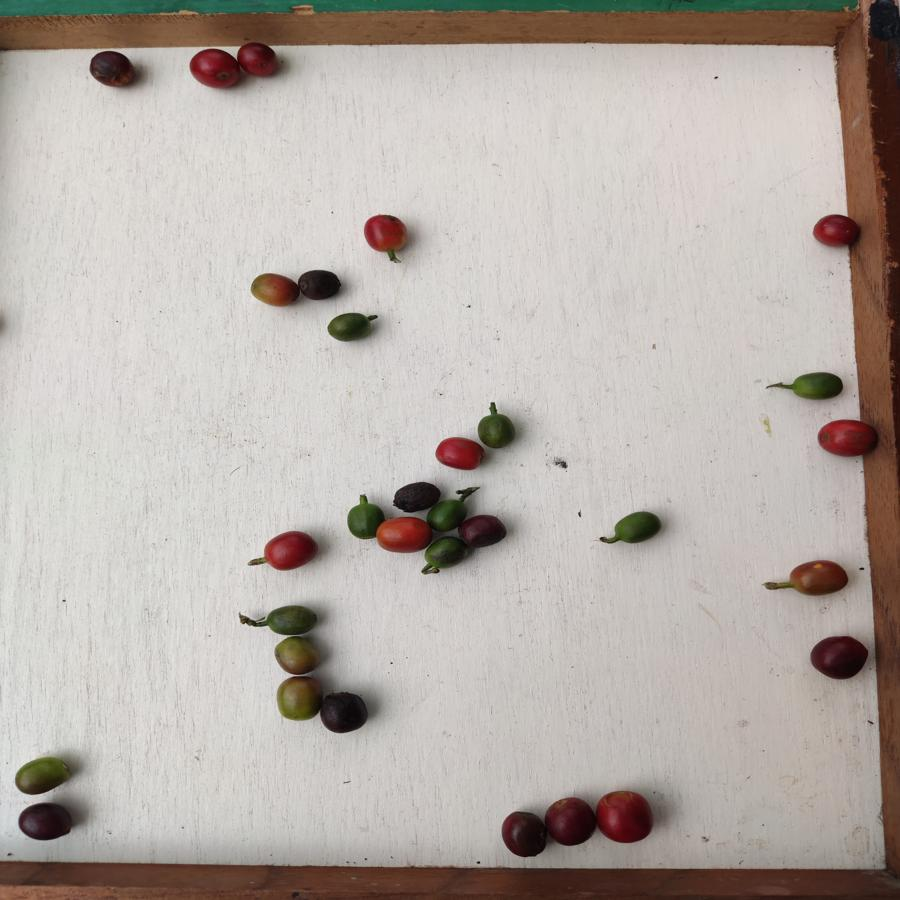Inmaduro: (790, 370, 846, 403), (263, 604, 319, 636), (610, 511, 664, 544), (423, 536, 467, 573), (323, 312, 374, 343), (477, 412, 516, 450), (346, 502, 378, 543), (427, 497, 463, 531)
Maduro: (595, 788, 657, 844), (262, 528, 318, 570), (816, 419, 878, 456), (188, 48, 241, 91), (359, 214, 412, 256), (375, 514, 433, 552), (433, 433, 482, 473), (813, 214, 864, 249), (239, 41, 281, 75)
Pinton: (788, 559, 849, 600), (12, 757, 74, 796), (276, 675, 320, 722), (270, 636, 324, 674), (376, 515, 428, 553), (249, 272, 298, 307)
Sobremaduro: (811, 633, 872, 682), (548, 795, 597, 846), (497, 811, 548, 859), (17, 801, 73, 843), (320, 691, 369, 734), (89, 47, 138, 89), (463, 512, 508, 550), (298, 268, 343, 302), (392, 479, 439, 510)
